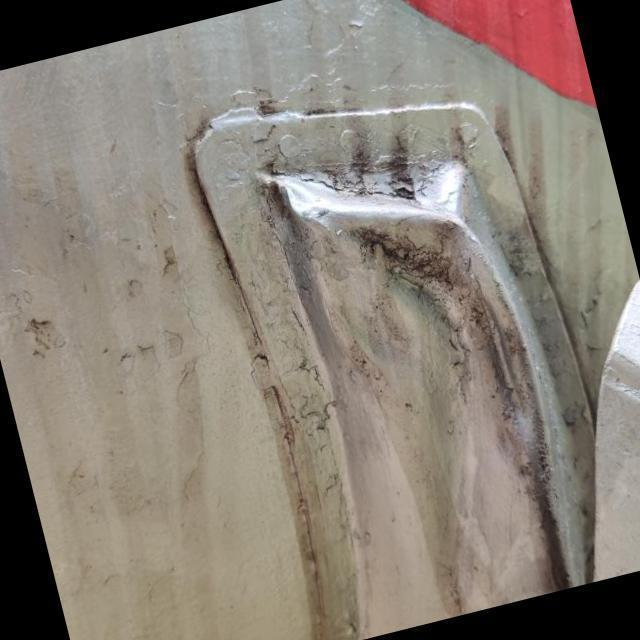Dent: (223, 87, 620, 640)
